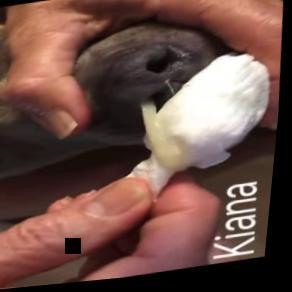nasal_discharge: (107, 82, 200, 187)
